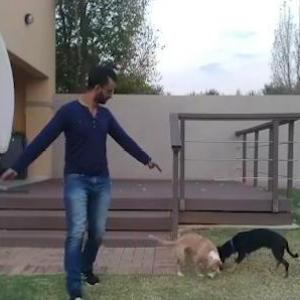land: (1, 64, 162, 290)
